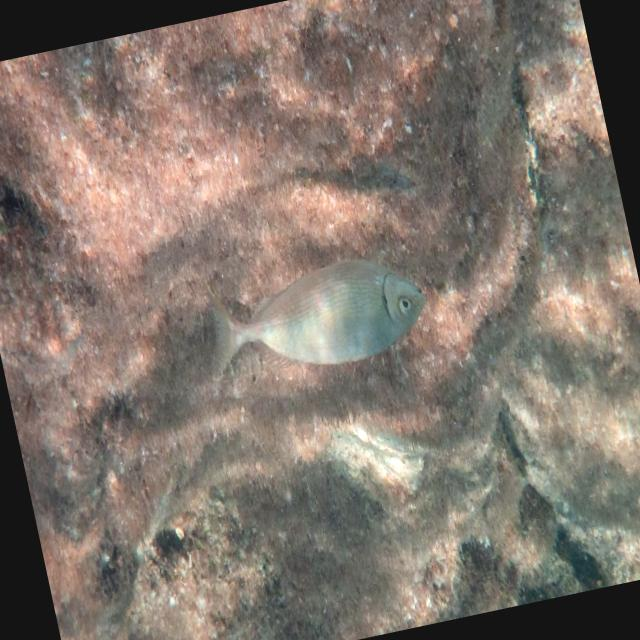Sokar Baligi: (180, 212, 450, 409)
